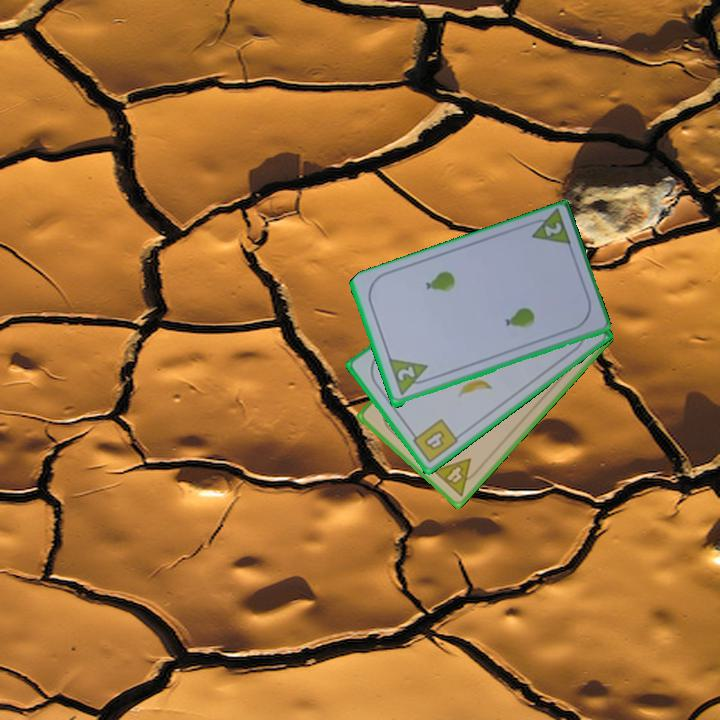2p: (523, 207, 574, 251), (385, 356, 434, 399)
4b: (406, 415, 461, 466)
4p: (429, 455, 484, 500)
